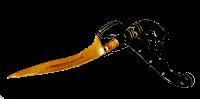faca: (7, 35, 118, 78)
